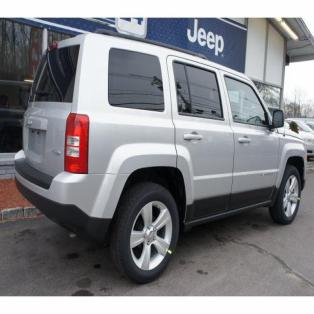Auto: (12, 32, 306, 281)
